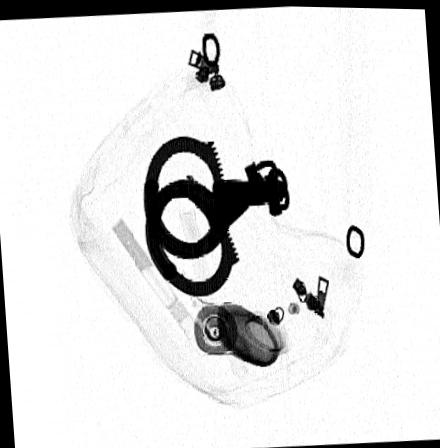HandCuffs: (141, 131, 292, 296)
